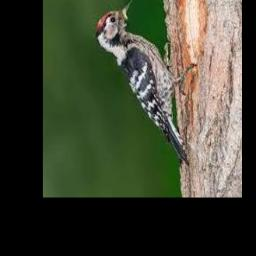Woodpecker: (95, 0, 196, 164)
